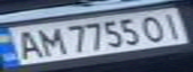5: (118, 16, 145, 46), (103, 17, 127, 48)
7: (63, 21, 87, 53), (84, 19, 106, 52)
A: (6, 28, 45, 61)
I: (154, 11, 187, 39)
M: (30, 25, 66, 56)
O: (136, 12, 172, 43)
